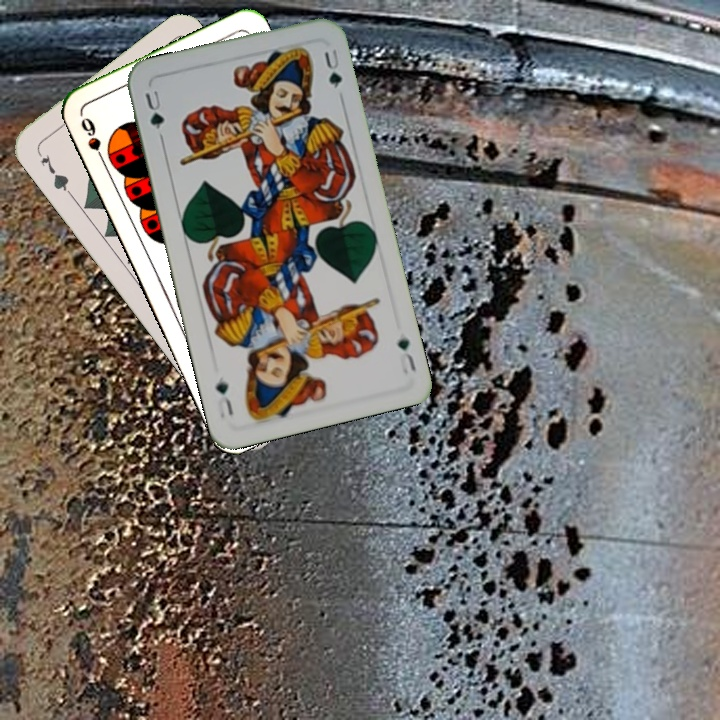G7: (33, 147, 74, 198)
GU: (140, 86, 167, 132), (393, 334, 418, 377)
S9: (76, 113, 109, 168)
